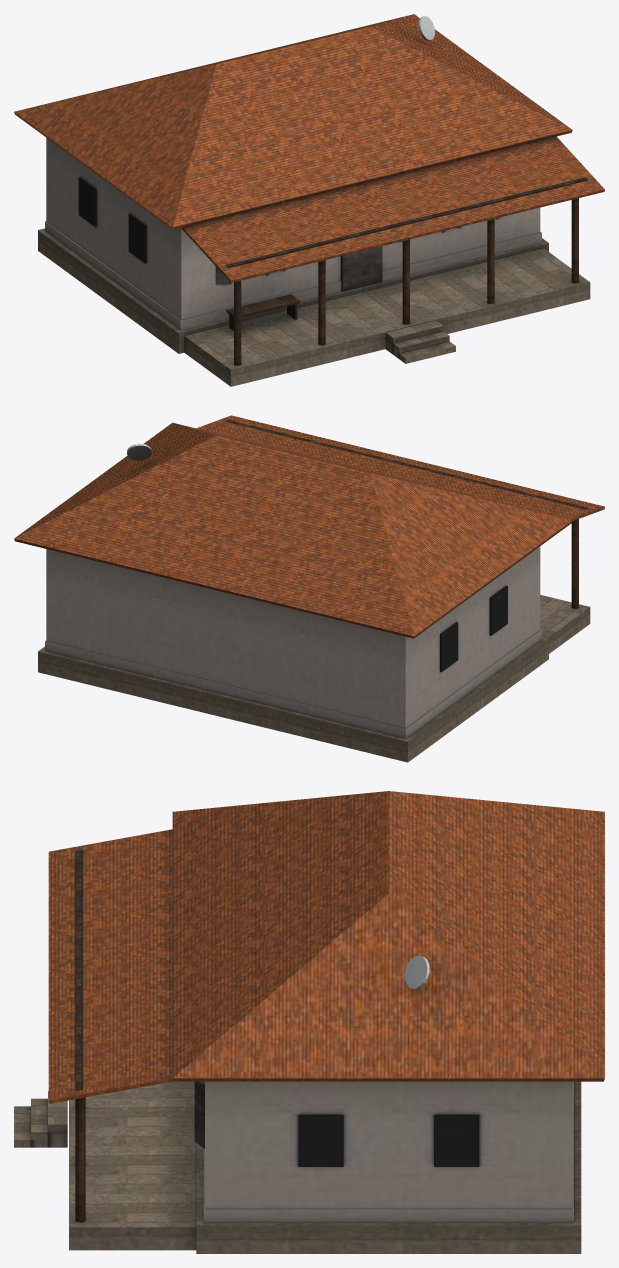
The model's file is farmhouse.glb.
3 renders of one model, top to bottom at view 1: azimuth 30°, elevation 25°; view 2: azimuth 150°, elevation 25°; view 3: azimuth 270°, elevation 25°, orthographic. The views are drawn at different scales.
Parts seen in each view (by area): view 1: farmhouse; view 2: farmhouse; view 3: farmhouse.
Part boxes in pixels (bbox=[...]): farmhouse: bbox=[14, 14, 604, 386]; farmhouse: bbox=[14, 415, 604, 762]; farmhouse: bbox=[14, 791, 604, 1253].
Bounding box in the file's own units: 11.14 × 5.63 × 10.45.
1 material, 1 textured.
